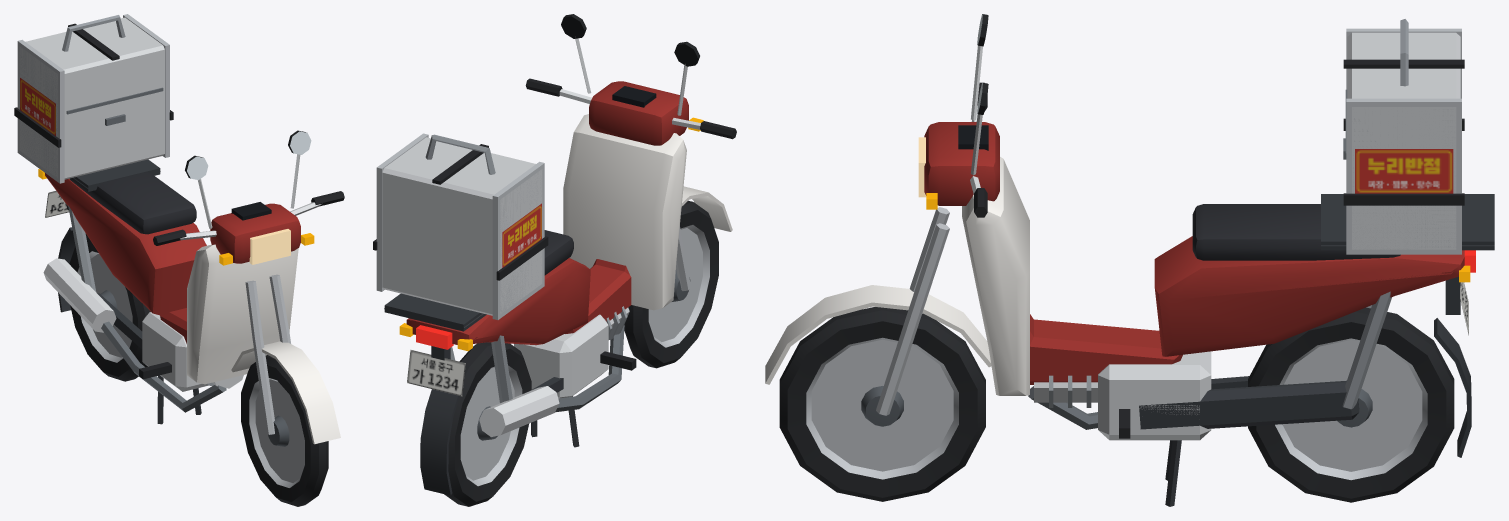
The model's file is SC_Veh_Scooter_Delivery_Steelbox.gltf.
The picture shows the model from 3 angles, left to right: view 1: azimuth 30°, elevation 25°; view 2: azimuth 150°, elevation 25°; view 3: azimuth 270°, elevation 25°; orthographic projection. The views are drawn at different scales.
Visible parts, largest first — view 1: SC_Veh_Scooter_Delivery_Steelbox; view 2: SC_Veh_Scooter_Delivery_Steelbox; view 3: SC_Veh_Scooter_Delivery_Steelbox.
Part boxes in pixels (x1,y1,x2,y2): SC_Veh_Scooter_Delivery_Steelbox: (14,14,344,506); SC_Veh_Scooter_Delivery_Steelbox: (373,14,736,506); SC_Veh_Scooter_Delivery_Steelbox: (765,14,1494,506).
Bounding box in the file's own units: 0.78 × 1.35 × 1.93.
3 materials, 3 textured.
